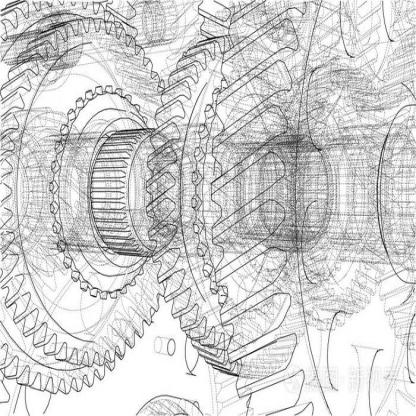FOD: (141, 27, 316, 387), (0, 10, 170, 370)
